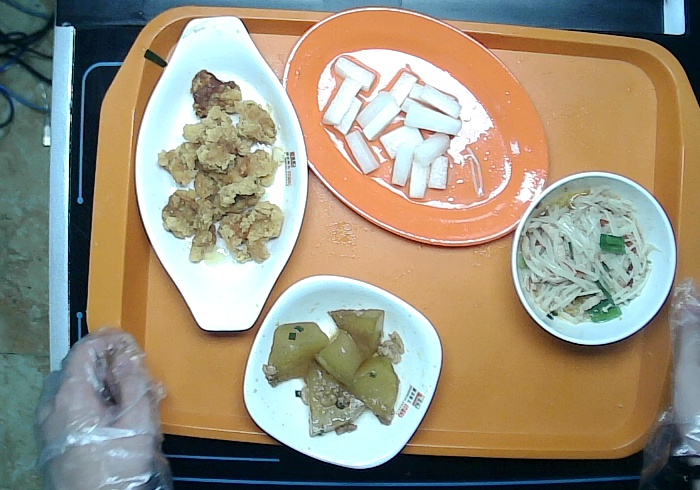NLDX-Bai_Se_Xiao_Fang_Die: (242, 275, 446, 474)
NLDX-Fan_Wan: (511, 171, 677, 346)
NLDX-Ju_Se_Pan: (282, 7, 552, 247)
NLDX-Yu_Pan: (135, 15, 309, 332)
